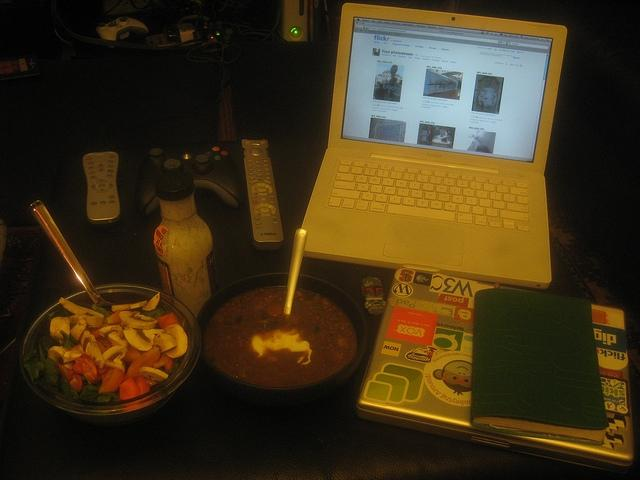mushroom: (58, 297, 104, 328), (123, 328, 166, 351), (163, 324, 188, 358), (120, 310, 158, 330), (81, 330, 101, 367), (102, 345, 128, 372), (99, 324, 127, 348), (50, 317, 70, 344), (152, 332, 176, 354), (111, 300, 148, 313), (140, 366, 168, 382), (70, 317, 87, 342), (142, 292, 160, 310), (48, 346, 67, 361)
